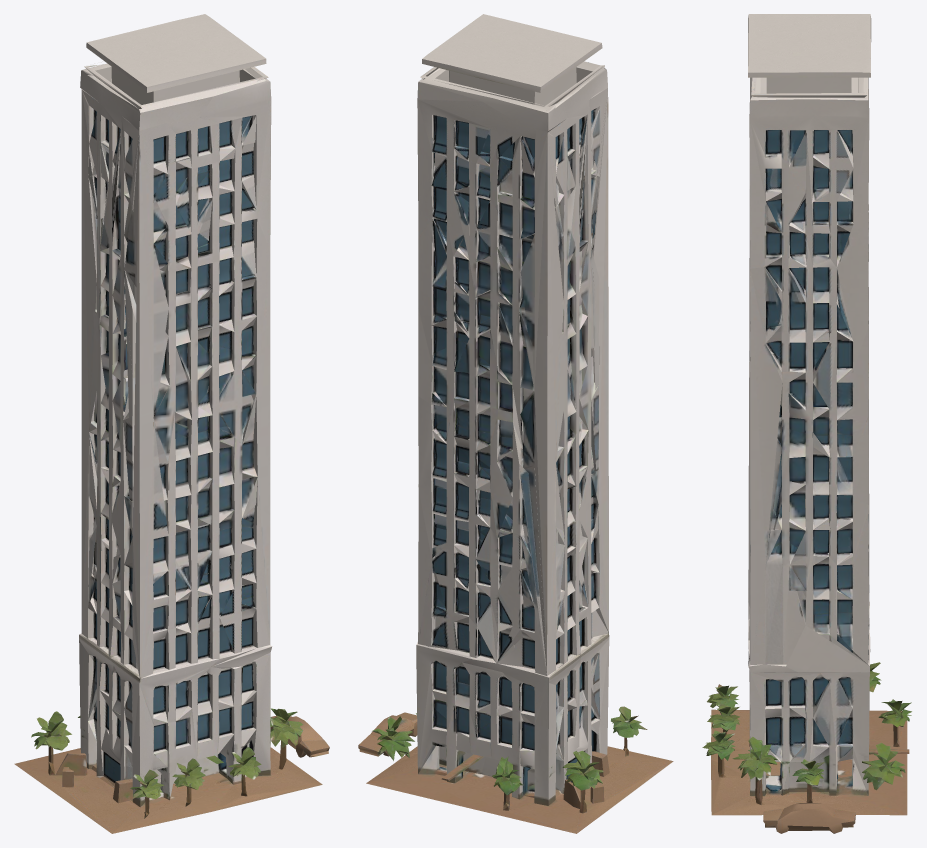
The model's file is building-tower.glb.
The picture shows the model from 3 angles, left to right: view 1: azimuth 30°, elevation 25°; view 2: azimuth 150°, elevation 25°; view 3: azimuth 270°, elevation 25°; orthographic projection.
Bounding box in the file's own units: 0.5769 × 1.59 × 0.4177.
1 material, 1 textured.
